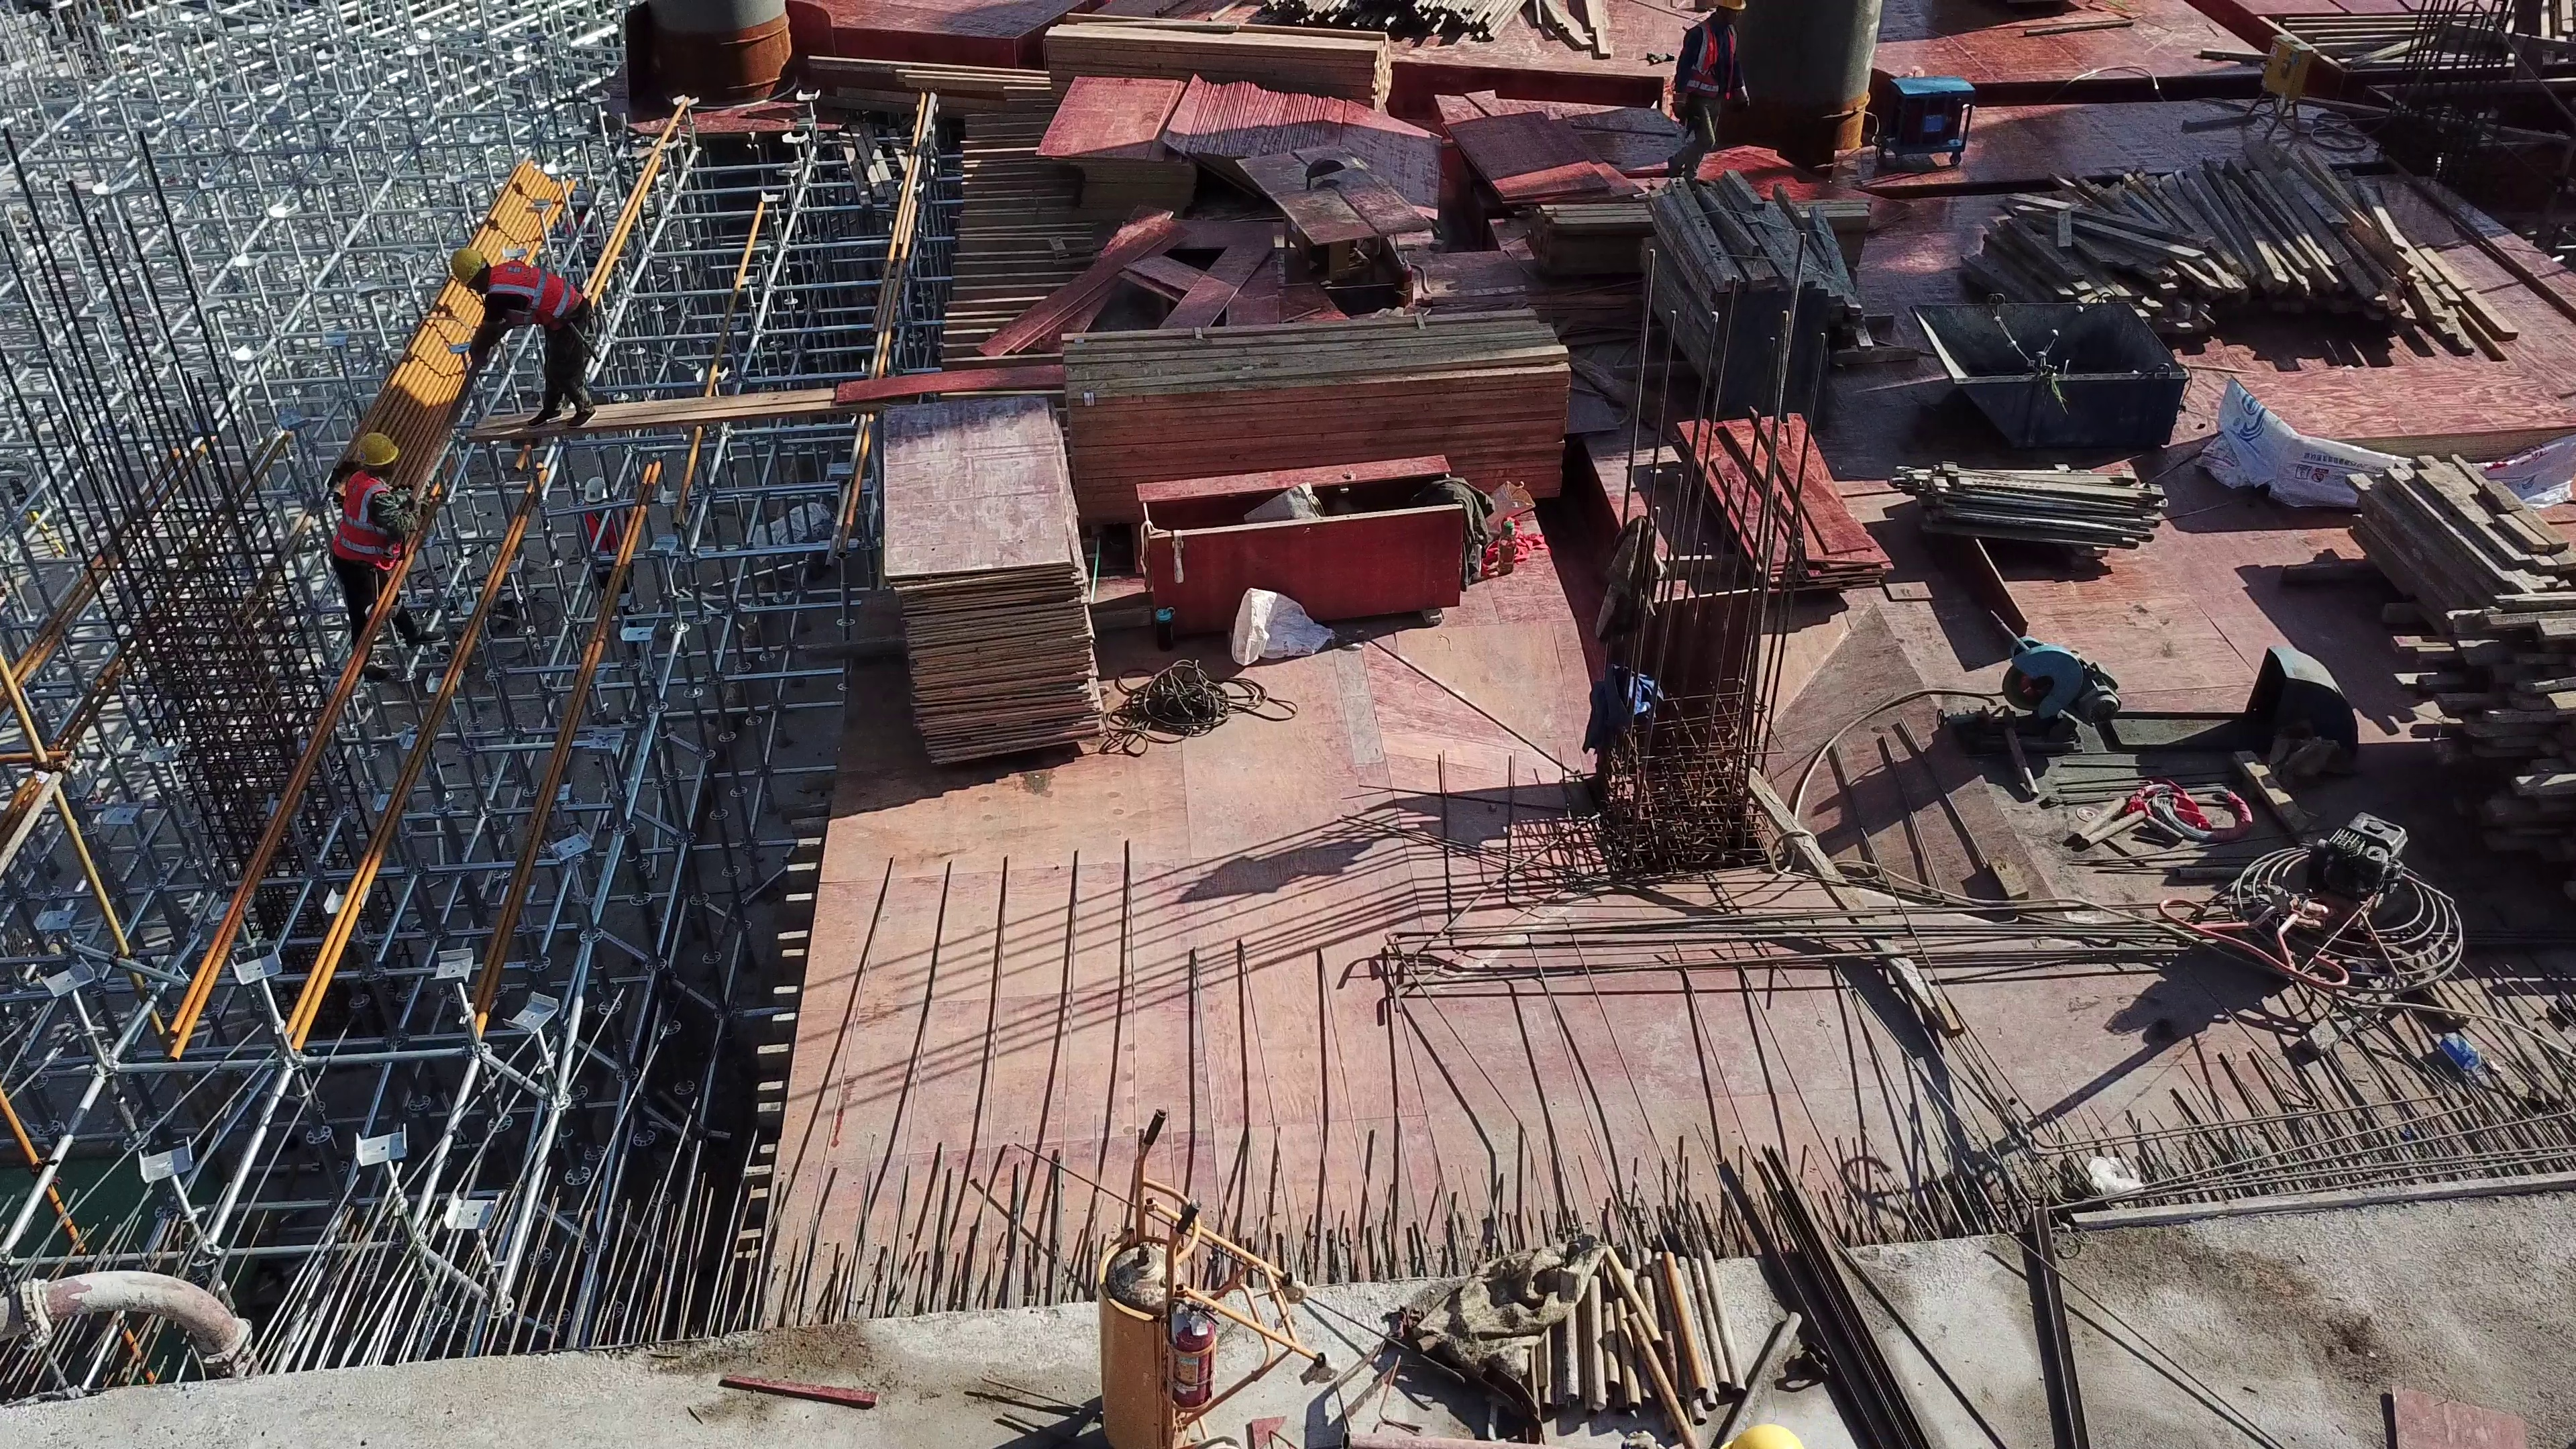board: (874, 402, 1107, 767), (2198, 374, 2576, 510), (1670, 415, 1898, 591), (1163, 75, 1437, 219), (1036, 72, 1193, 212), (1442, 110, 1644, 203)
cutter: (1944, 608, 2124, 757)
helmet: (355, 431, 401, 464), (450, 246, 484, 286)
hopper: (1910, 303, 2186, 449)
person: (326, 429, 446, 688), (446, 241, 600, 431)
vest: (335, 467, 404, 578), (486, 262, 583, 329), (1679, 19, 1744, 95)
wood: (1965, 136, 2516, 354), (1054, 310, 1572, 498), (2387, 589, 2561, 854), (1043, 9, 1393, 108), (2344, 431, 2545, 593), (1516, 201, 1650, 272)
